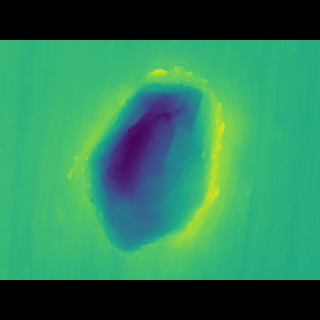Loch: (60, 73, 244, 236)
